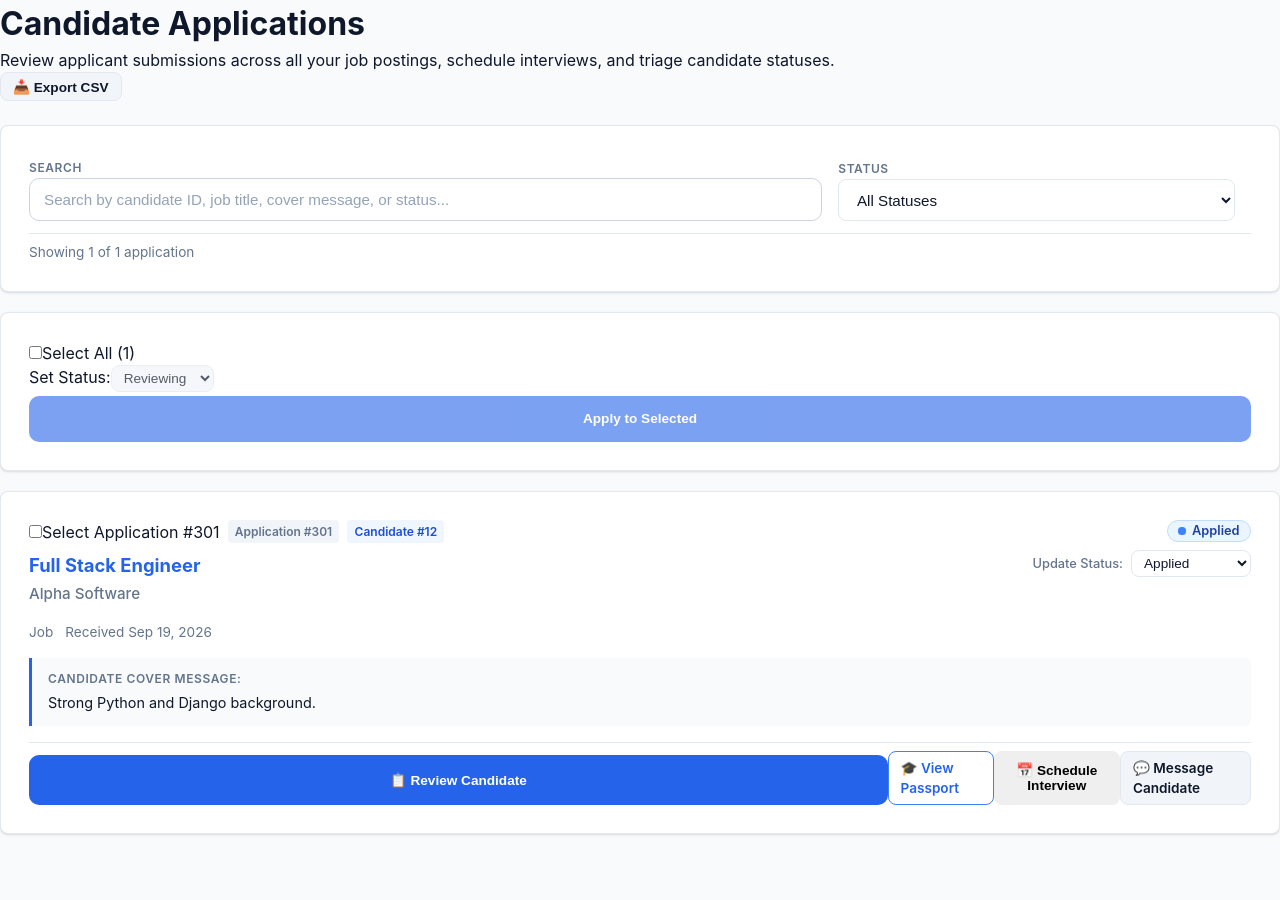
RecruiterApplicationsPage › opens ScheduleInterviewModal when Schedule Interview is clicked
Expected: the text "Application #301" is shown, [228,520,339,543]
Click the button with test id "schedule-interview-btn-301": coordinates (1057, 778) [994,751,1120,805]
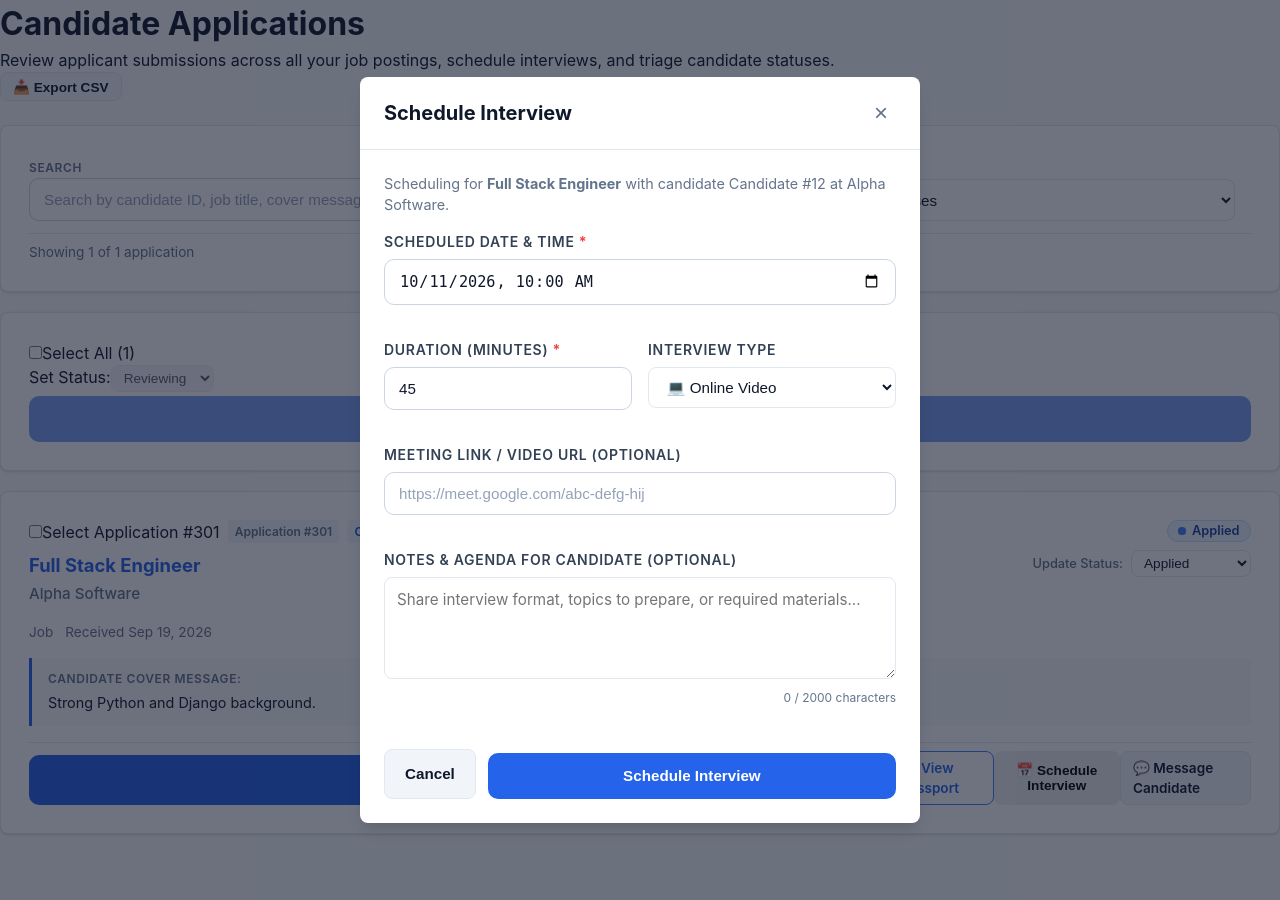
Now the dialog with test id "schedule-interview-modal" is shown, box [360,77,920,823]
Now the heading "Schedule Interview" is shown, box [384,98,572,128]
